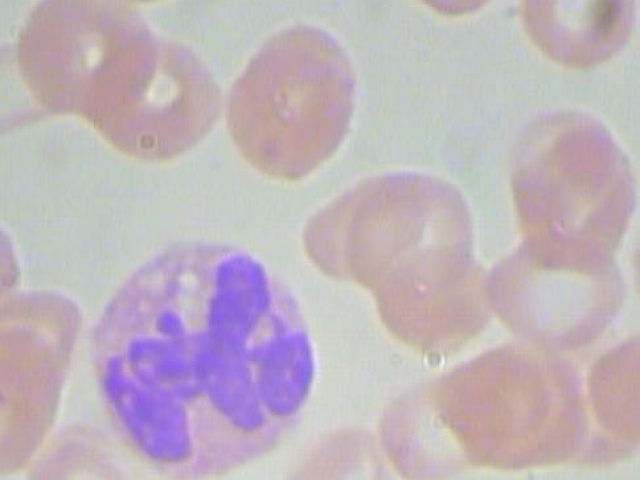RBC: (213, 15, 379, 182), (330, 164, 486, 310), (481, 213, 637, 359), (5, 0, 161, 117), (506, 0, 640, 78), (278, 422, 404, 480), (0, 210, 43, 366), (374, 0, 518, 28), (74, 0, 211, 2), (80, 479, 257, 480)
WBC: (67, 228, 340, 480)
